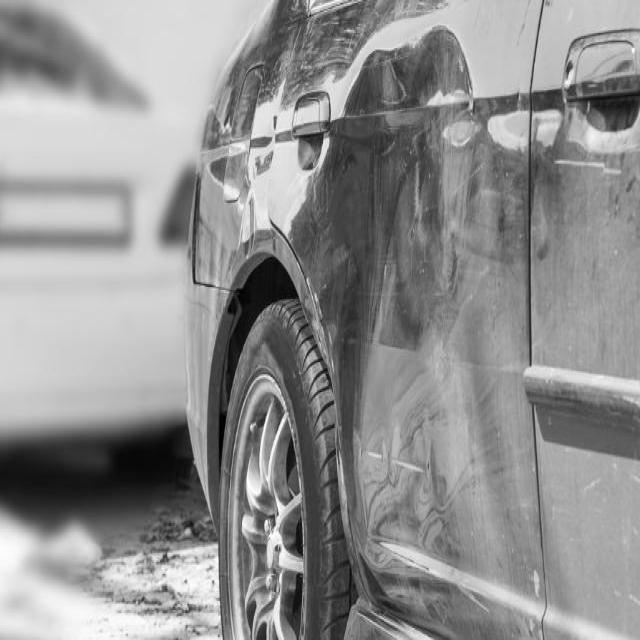Dent: (343, 590, 475, 640), (378, 542, 432, 574), (515, 0, 546, 48), (582, 476, 603, 494), (532, 566, 540, 600), (624, 173, 636, 194), (543, 0, 551, 8)
